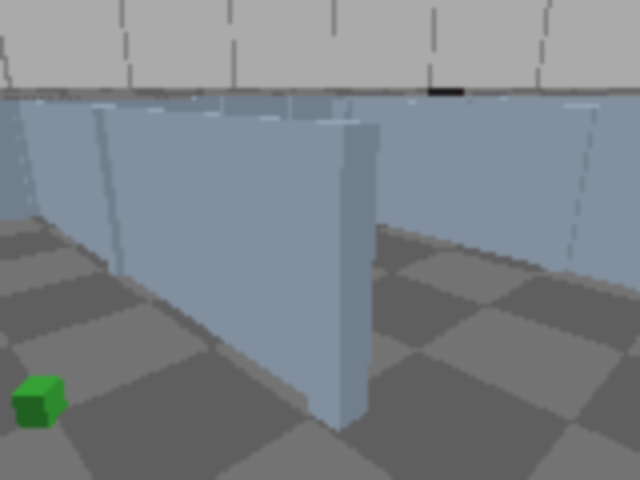puck: (11, 376, 67, 427)
